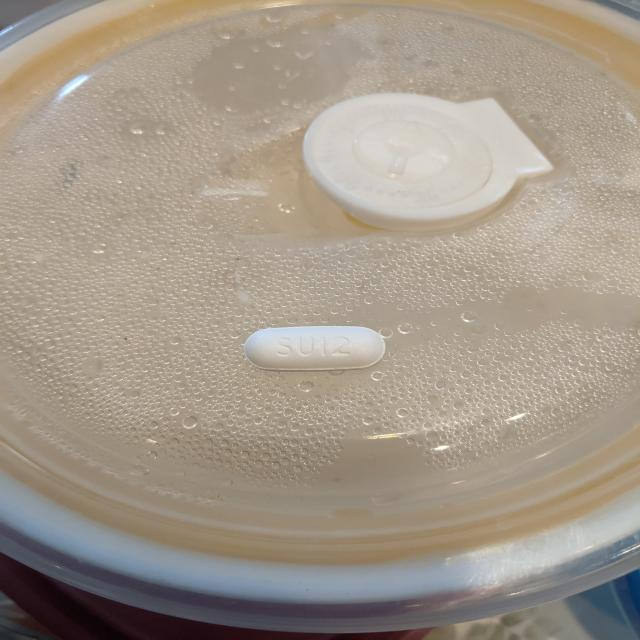non-organic waste: (243, 325, 387, 373)
